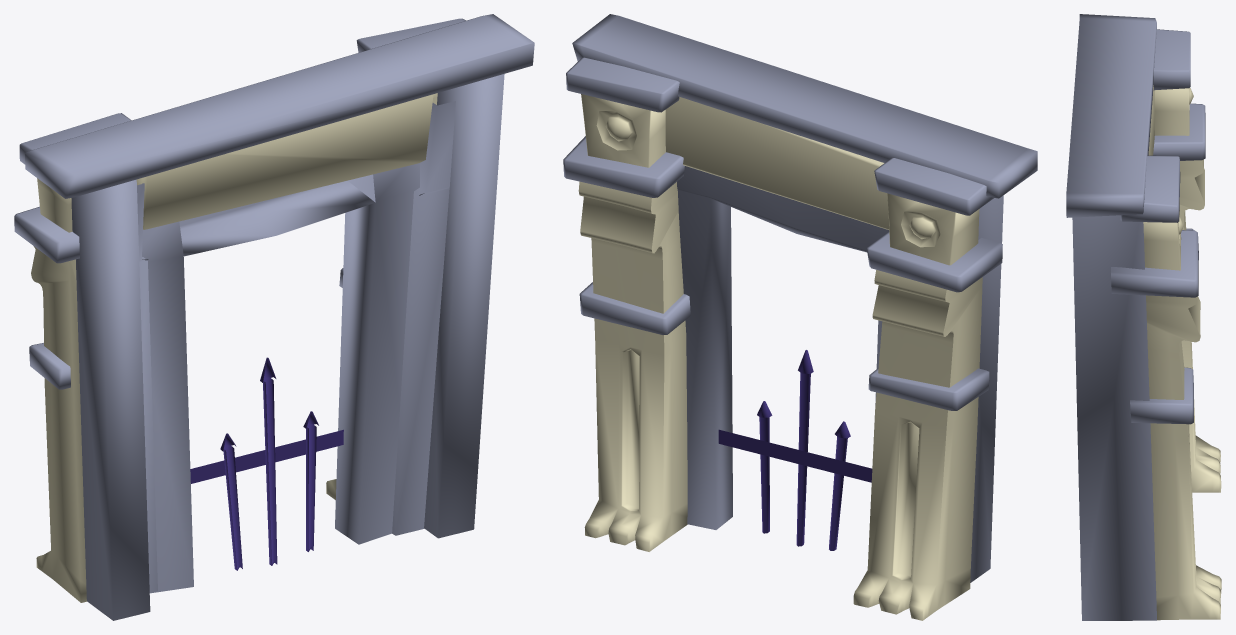
The model's file is props_Cheminee.fbx.
3 views of the same model, side by side, from view 1: azimuth 30°, elevation 25°; view 2: azimuth 150°, elevation 25°; view 3: azimuth 270°, elevation 25° (orthographic). The views are drawn at different scales.
Visible parts, largest first — view 1: Cheminée; view 2: Cheminée; view 3: Cheminée.
Part boxes in pixels (x1=…): Cheminée: x1=14, y1=14, x2=534, y2=620; Cheminée: x1=563, y1=14, x2=1037, y2=620; Cheminée: x1=1066, y1=14, x2=1221, y2=620.
Bounding box in the file's own units: 3.39 × 1.06 × 3.41.
